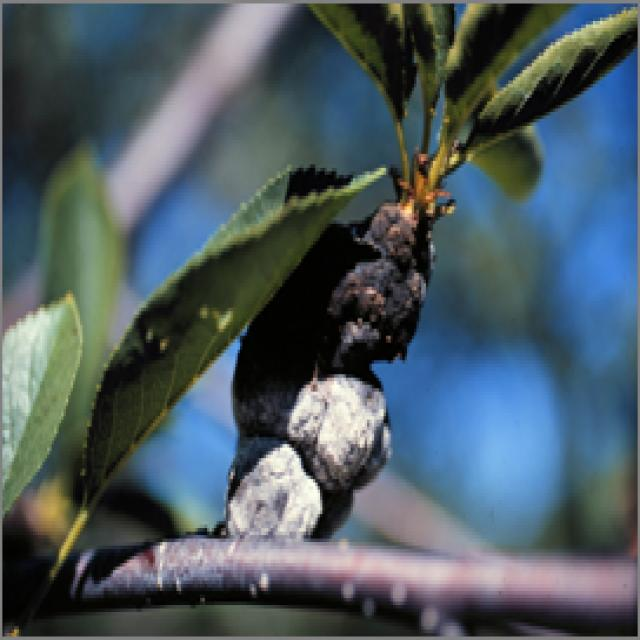Black_knot: (221, 171, 435, 542)
